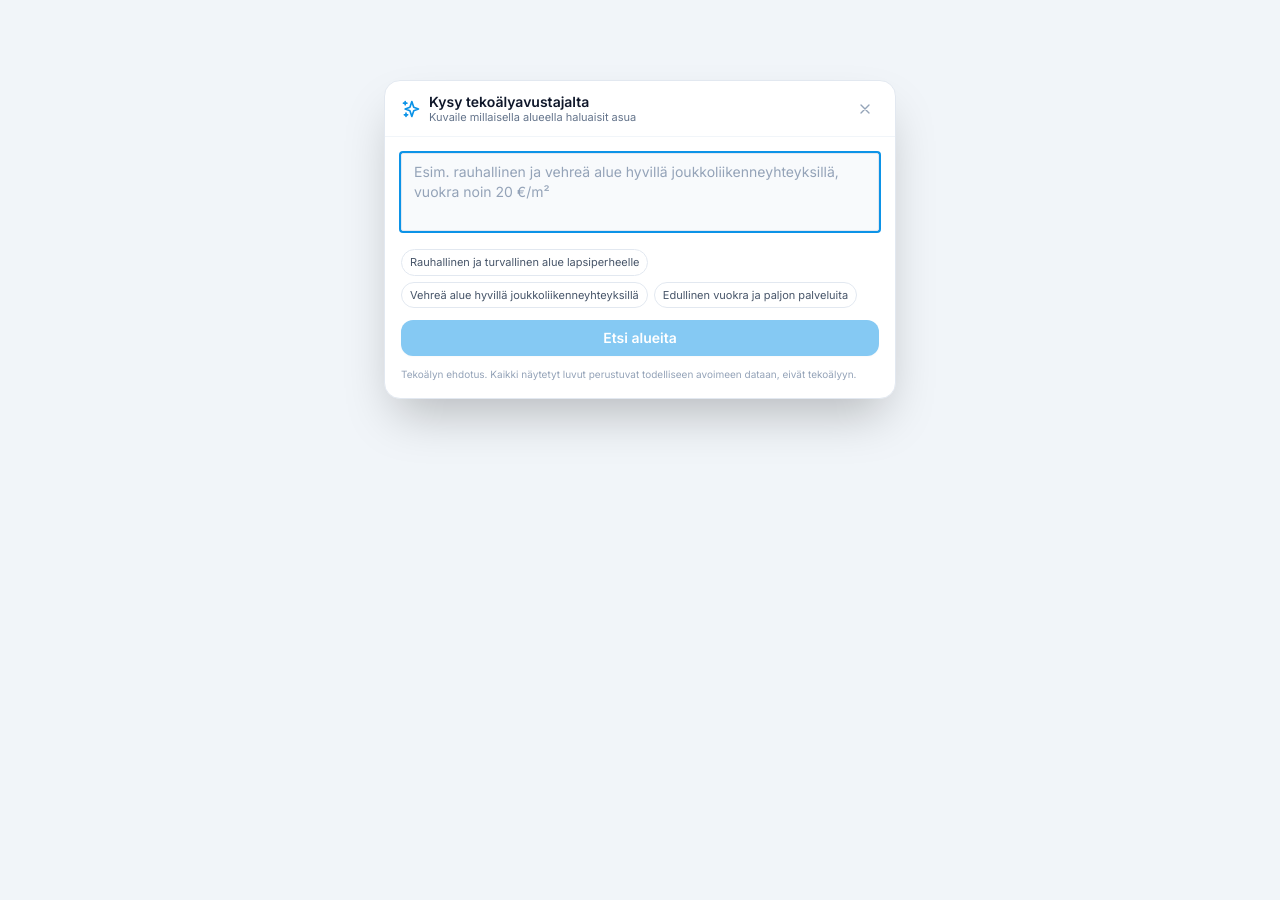
Test: AssistantPanel › fills the textarea when an example chip is clicked
What coordinates should you click on to do the following:
click the button "Vehreä alue hyvillä joukkoliikenneyhteyksillä"
I would click on:
 (524, 295)
Its box is [401,282,648,308].
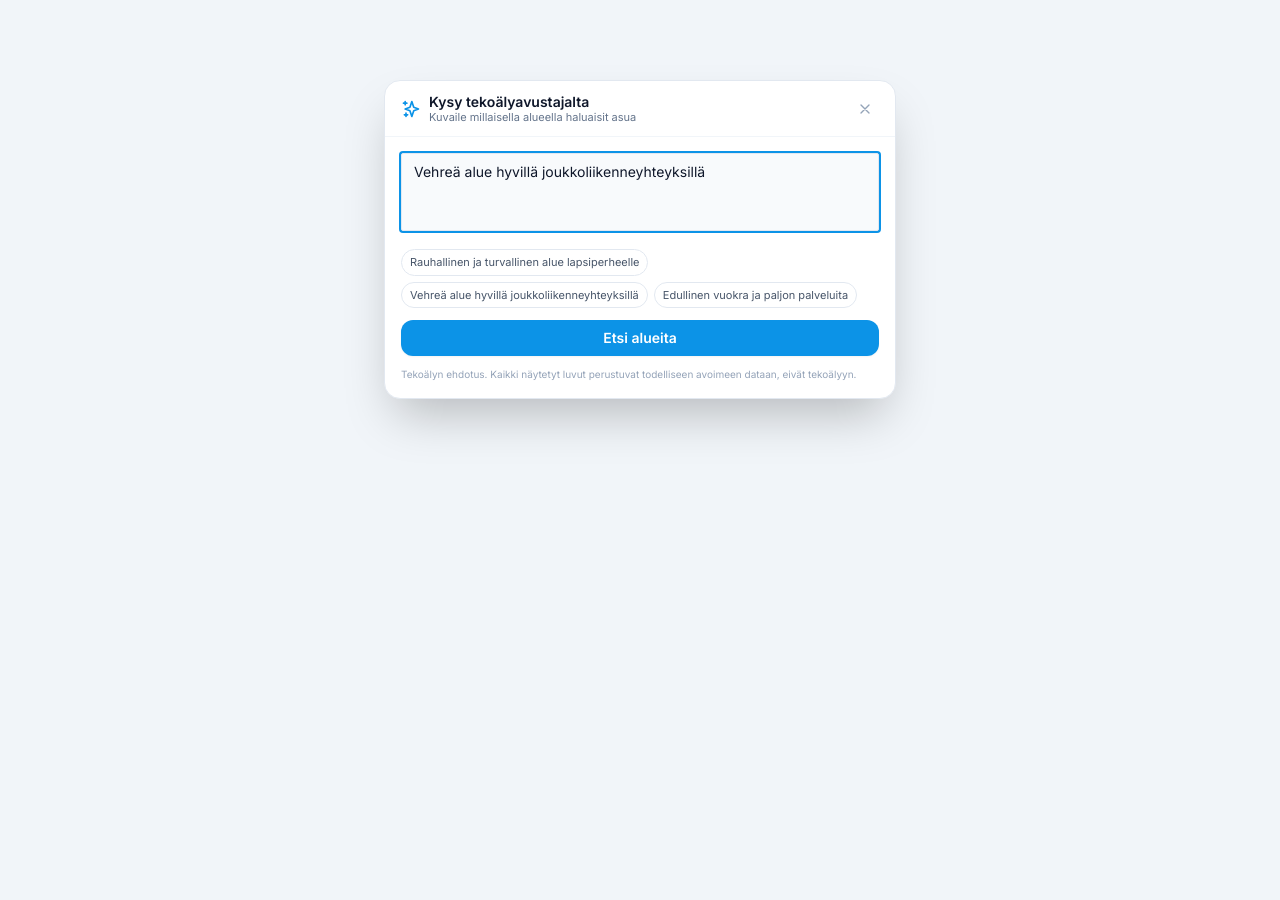
Result: the text box holds "Vehreä alue hyvillä joukkoliikenneyhteyksillä" at [401,153,879,231]
